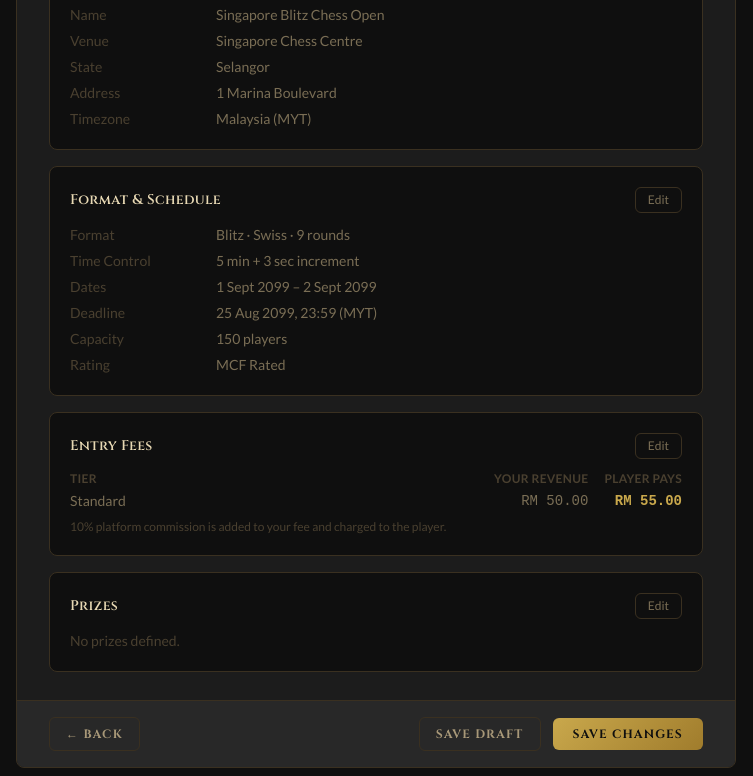
Test: WizardShell — Save Changes › shows the API's message and stays put when the save is refused
(page scrolled)
Click the button "Save Changes" at (628,734), box [552,718,703,750]
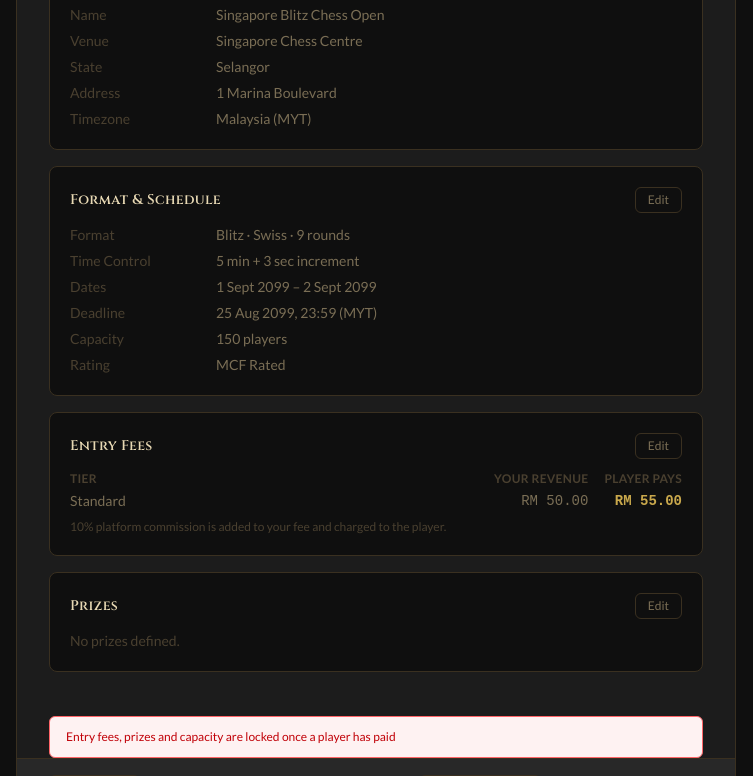
Check: the message reads "Entry fees, prizes and capacity are locked once a player has paid", box [66,729,396,744]
